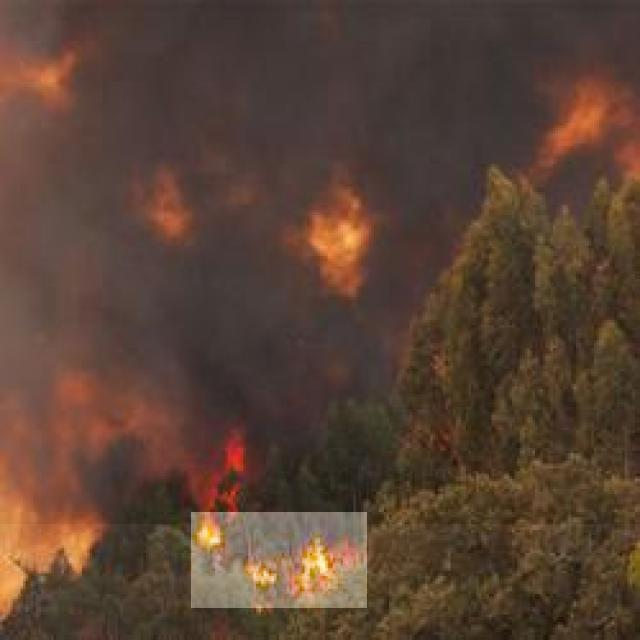Fire: (191, 512, 367, 608)
Smoke: (0, 0, 640, 524)
